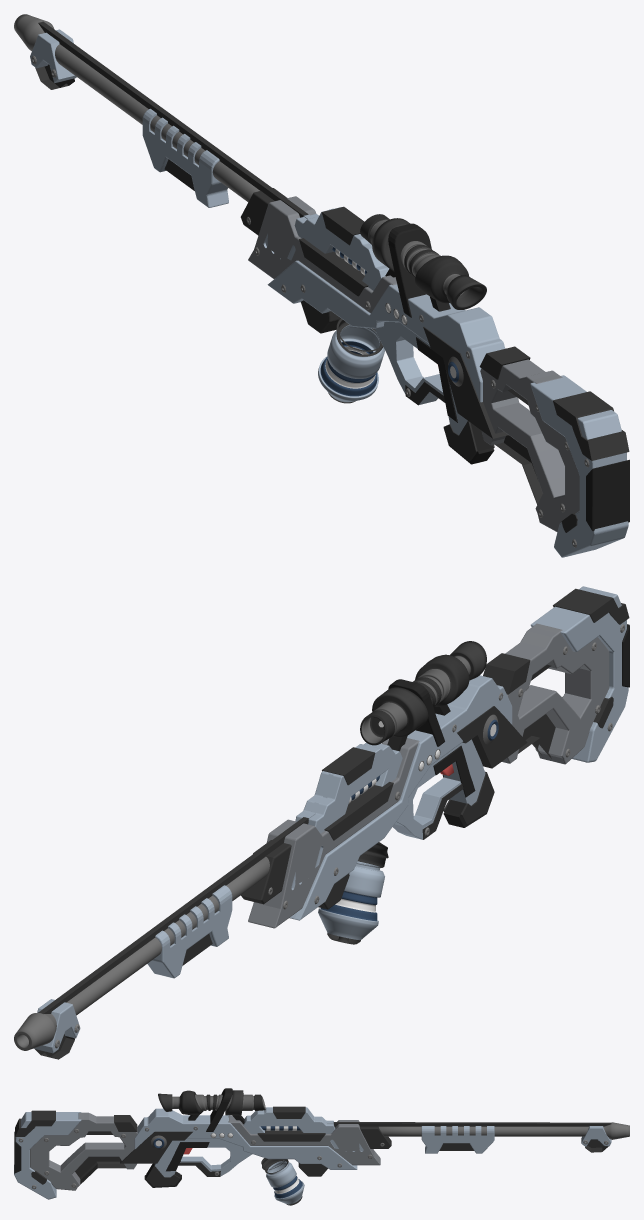
File: Sniper_1 (1).fbx
The picture shows the model from 3 angles, top to bottom: view 1: azimuth 30°, elevation 25°; view 2: azimuth 150°, elevation 25°; view 3: azimuth 270°, elevation 25°; orthographic projection. The views are drawn at different scales.
Visible parts, largest first — view 1: Cube.015, Cube.014, Cube.013, Cube.016, Cube.017, Cube.019, Cylinder.004, Circle.002, Cylinder.003, Cube.018, Cube.022, Cube.020 (+1 smaller); view 2: Cube.013, Cube.015, Cube.016, Cube.017, Cube.014, Cylinder.004, Cube.019, Cylinder.003, Circle.002, Cube.018, Cube.022, Cube.020 (+2 smaller); view 3: Cube.015, Cube.013, Cube.016, Cube.017, Cube.014, Cube.019, Cylinder.003, Cylinder.004, Cube.018, Circle.002, Cube.022, Cube.021 (+2 smaller).
Boxes of the visible parts, x1,y1,x2,y2 form: Cube.015: [267, 223, 505, 402]; Cube.014: [530, 375, 629, 557]; Cube.013: [479, 346, 579, 531]; Cube.016: [240, 188, 396, 313]; Cube.017: [38, 21, 389, 290]; Cube.019: [375, 322, 494, 464]; Cylinder.004: [360, 214, 486, 309]; Circle.002: [318, 318, 384, 403]; Cylinder.003: [14, 14, 259, 201]; Cube.018: [142, 108, 228, 207]; Cube.022: [423, 327, 508, 438]; Cube.020: [30, 29, 76, 89]; Cube.013: [483, 623, 609, 764]; Cube.015: [289, 675, 512, 920]; Cube.016: [241, 738, 419, 928]; Cube.017: [38, 742, 402, 1013]; Cube.014: [530, 586, 629, 762]; Cylinder.004: [360, 641, 486, 745]; Cube.019: [393, 739, 494, 839]; Cylinder.003: [14, 856, 269, 1050]; Circle.002: [318, 842, 388, 944]; Cube.018: [147, 885, 232, 978]; Cube.022: [457, 706, 527, 768]; Cube.020: [34, 999, 80, 1059]; Cube.015: [134, 1088, 357, 1176]; Cube.013: [30, 1112, 137, 1190]; Cube.016: [228, 1115, 391, 1165]; Cube.017: [243, 1106, 611, 1133]; Cube.014: [14, 1110, 81, 1199]; Cube.019: [144, 1139, 252, 1187]; Cylinder.003: [379, 1122, 629, 1139]; Cylinder.004: [158, 1090, 265, 1115]; Cube.018: [421, 1126, 494, 1153]; Circle.002: [261, 1158, 304, 1205]; Cube.022: [120, 1131, 192, 1163]; Cube.021: [75, 1131, 125, 1186].
Size of the model in its own units: 174 by 676 by 3330.
